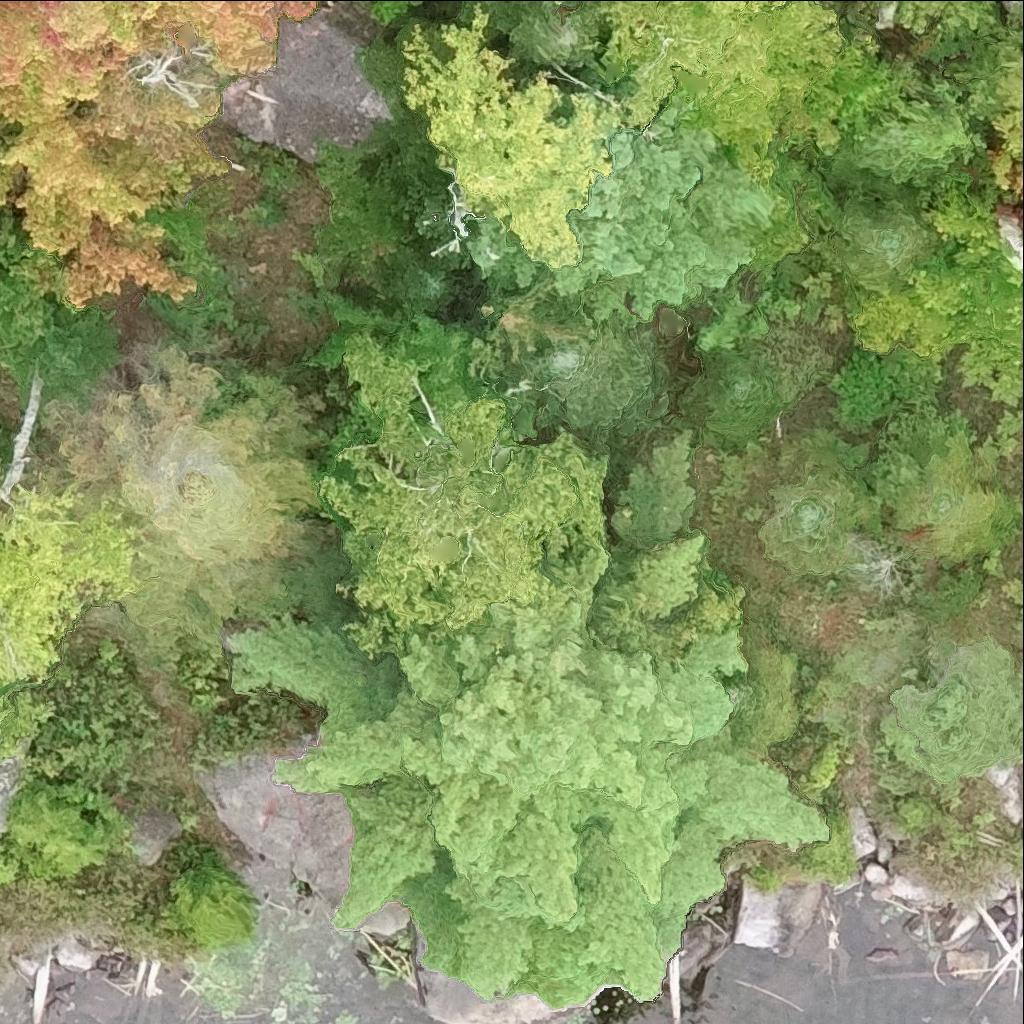crown: (226, 432, 829, 1009), (313, 300, 611, 663), (47, 344, 327, 662), (469, 95, 769, 326), (402, 4, 620, 268), (0, 99, 227, 308), (0, 485, 139, 758), (852, 407, 1017, 562), (0, 0, 167, 145), (765, 0, 914, 152), (881, 631, 1023, 783), (504, 317, 669, 437), (603, 0, 743, 120), (756, 455, 877, 577), (140, 0, 316, 83), (0, 779, 137, 885), (906, 257, 1023, 364), (852, 94, 973, 185), (831, 195, 938, 294), (696, 346, 783, 447), (851, 279, 956, 359), (483, 0, 599, 68), (171, 865, 255, 949), (917, 188, 1004, 265), (897, 0, 995, 38), (402, 258, 460, 315), (992, 115, 1023, 203), (997, 31, 1023, 122), (718, 0, 796, 20), (0, 248, 9, 267), (1021, 740, 1023, 753), (1019, 760, 1023, 762)
